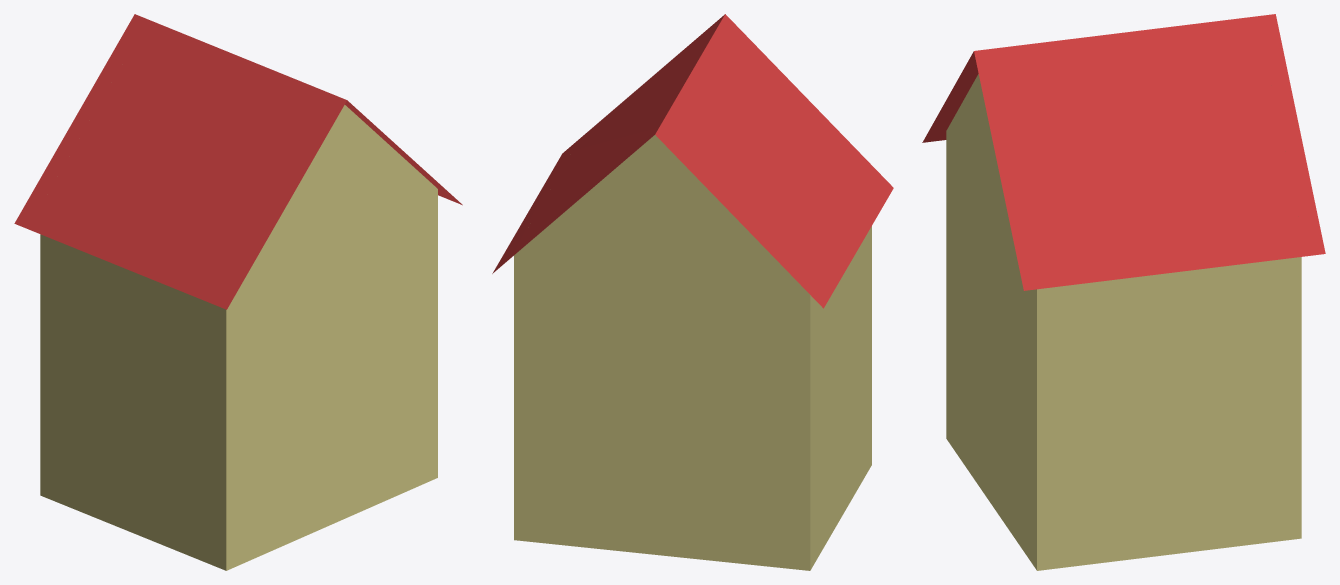
3 views of the same model, side by side, from view 1: azimuth 30°, elevation 25°; view 2: azimuth 150°, elevation 25°; view 3: azimuth 270°, elevation 25° (orthographic). The views are drawn at different scales.
Bounding box in the file's own units: 11.26 × 10.37 × 12.97.
